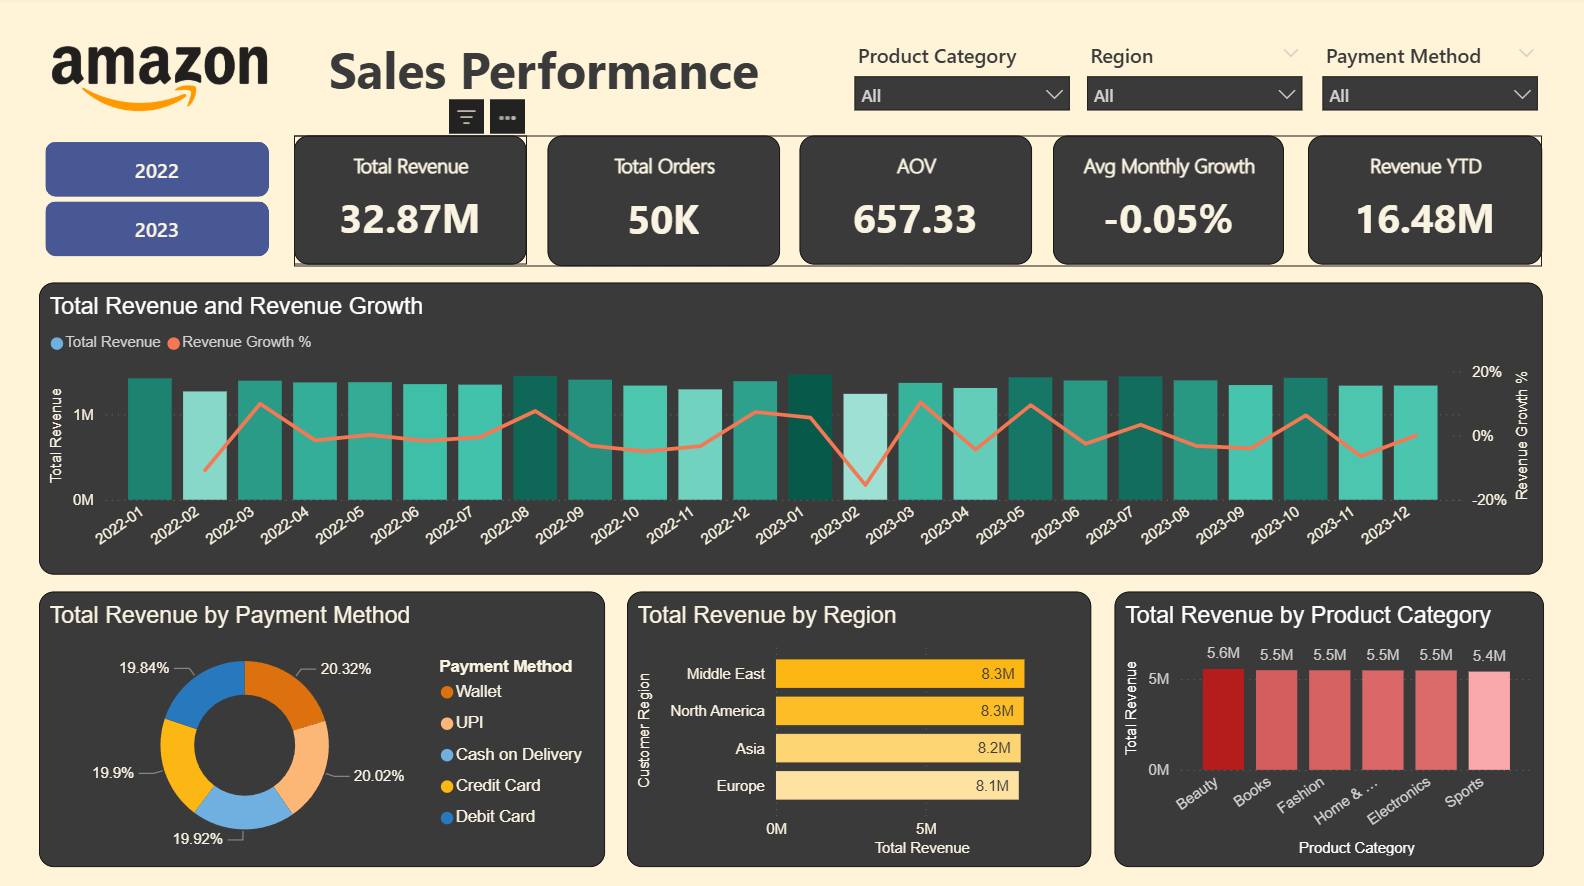

The page's visual inventory and layout, read from the dashboard file:
{"tool":"powerbi","page":{"name":"Page 1","canvas":[1280,720],"ordinal":0},"visuals":[{"type":"lineClusteredColumnComboChart","title":"Total Revenue and Revenue Growth ","fields":{"Y":["amazon_sales_dataset.Total Revenue"],"Y2":["amazon_sales_dataset.Revenue Growth %"],"Category":["Date.YearMonth"]},"box":[33.8,231.2,1211.2,235],"z":0},{"type":"cardVisual","title":"Total Revenue","fields":{"Data":["amazon_sales_dataset.Total Revenue"]},"box":[238.8,112.5,187.5,103.8],"z":1000,"group":"g1"},{"type":"barChart","title":"Total Revenue by Region","fields":{"Category":["amazon_sales_dataset.customer_region"],"Y":["Sum(amazon_sales_dataset.total_revenue)"]},"box":[508,480,374,222],"z":1000},{"type":"donutChart","title":"Total Revenue by Payment Method","fields":{"Y":["Sum(amazon_sales_dataset.total_revenue)"],"Category":["amazon_sales_dataset.payment_method"]},"box":[34,480,456,222],"z":2000},{"type":"columnChart","title":"Total Revenue by Product Category","fields":{"Category":["amazon_sales_dataset.product_category"],"Y":["amazon_sales_dataset.Total Revenue"]},"box":[900,480,346,222],"z":3000},{"type":"slicer","title":"Region","fields":{"Values":["amazon_sales_dataset.payment_method"]},"box":[1058.8,31.2,187.5,62.5],"z":4000},{"type":"advancedSlicerVisual","fields":{"Values":["Date.Year"]},"box":[33.8,112.5,190,103.8],"z":5000},{"type":"cardVisual","title":"Total Orders","fields":{"Data":["amazon_sales_dataset.Total Orders"]},"box":[443.6,112.5,187.5,105],"z":5000,"group":"g1"},{"type":"slicer","title":"Region","fields":{"Values":["amazon_sales_dataset.customer_region"]},"box":[868.8,31.2,187.5,62.5],"z":6000},{"type":"cardVisual","title":"AOV","fields":{"Data":["amazon_sales_dataset.AOV"]},"box":[646,112.5,187.5,103.8],"z":6000,"group":"g1"},{"type":"group","id":"g1","title":"Group 1","box":[238.8,112.5,1006.2,105],"z":7000},{"type":"cardVisual","title":"Avg Monthly Growth","fields":{"Data":["amazon_sales_dataset.Avg Monthly Growth %"]},"box":[849.8,112.5,186.2,103.8],"z":7000,"group":"g1"},{"type":"textbox","title":"Business Performance","box":[239.2,31.4,427.7,62.8],"z":8000},{"type":"slicer","title":"Region","fields":{"Values":["amazon_sales_dataset.product_category"]},"box":[681.2,31.2,187.5,62.5],"z":9000},{"type":"cardVisual","title":"Revenue YTD","fields":{"Data":["amazon_sales_dataset.Revenue YTD"]},"box":[1056,112.5,188.8,103.8],"z":9000,"group":"g1"},{"type":"image","box":[39.9,37.5,178.8,50.7],"z":10000}]}

Visuals, with their boxes in screenshot pixels (x1, y1, x2, y2), scaled from the page's 1280x720 canvas onto the 1584x886 screenshot:
"Total Revenue and Revenue Growth " lineClusteredColumnComboChart: left=42, top=285, right=1541, bottom=574
"Total Revenue" cardVisual: left=296, top=138, right=528, bottom=266
"Total Revenue by Region" barChart: left=629, top=591, right=1091, bottom=864
"Total Revenue by Payment Method" donutChart: left=42, top=591, right=606, bottom=864
"Total Revenue by Product Category" columnChart: left=1114, top=591, right=1542, bottom=864
"Region" slicer: left=1310, top=38, right=1542, bottom=115
advancedSlicerVisual - Date.Year: left=42, top=138, right=277, bottom=266
"Total Orders" cardVisual: left=549, top=138, right=781, bottom=268
"Region" slicer: left=1075, top=38, right=1307, bottom=115
"AOV" cardVisual: left=799, top=138, right=1031, bottom=266
"Group 1" group: left=296, top=138, right=1541, bottom=268
"Avg Monthly Growth" cardVisual: left=1052, top=138, right=1282, bottom=266
"Business Performance" textbox: left=296, top=39, right=825, bottom=116
"Region" slicer: left=843, top=38, right=1075, bottom=115
"Revenue YTD" cardVisual: left=1307, top=138, right=1540, bottom=266
image: left=49, top=46, right=271, bottom=109
